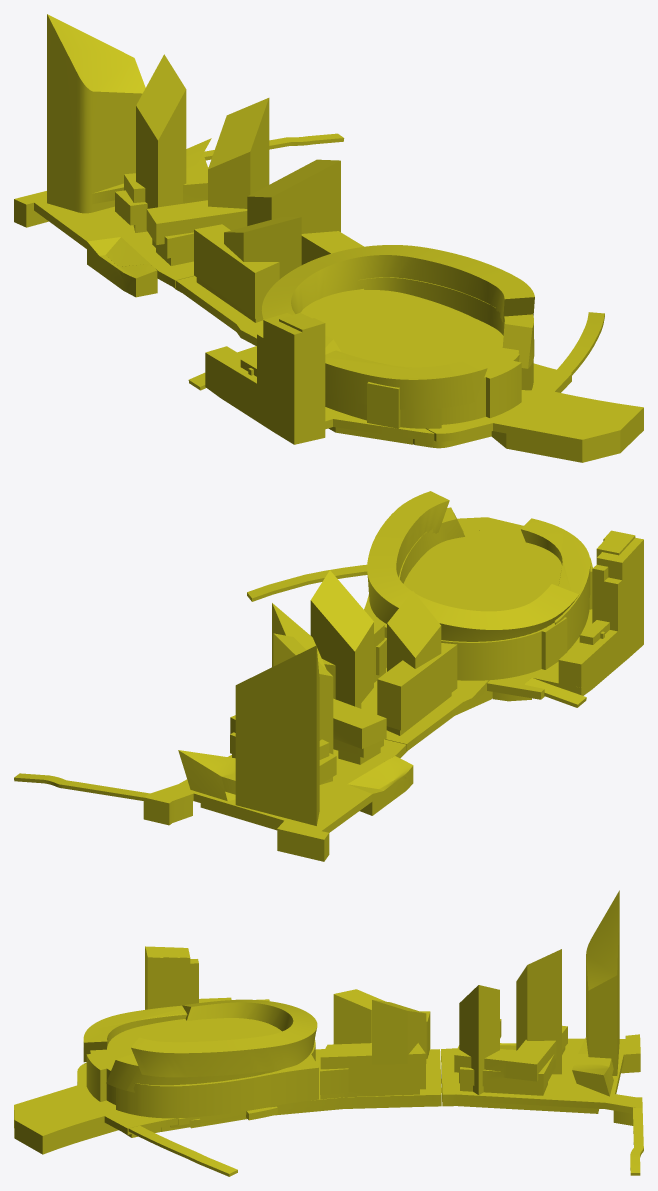
File: PAM_Kansi_ja_Areena_20180214.fbx
The picture shows the model from 3 angles, top to bottom: view 1: azimuth 30°, elevation 25°; view 2: azimuth 150°, elevation 25°; view 3: azimuth 270°, elevation 25°; orthographic projection. The views are drawn at different scales.
Parts seen in each view (by area): view 1: PAM_Kansi ja Areena 20180214; view 2: PAM_Kansi ja Areena 20180214; view 3: PAM_Kansi ja Areena 20180214.
Boxes of the visible parts, box(x1,y1,x2,y2) form: PAM_Kansi ja Areena 20180214: box(14, 14, 643, 462); PAM_Kansi ja Areena 20180214: box(14, 491, 643, 861); PAM_Kansi ja Areena 20180214: box(14, 890, 643, 1176).
Size of the model in its own units: 216 by 115 by 384.
